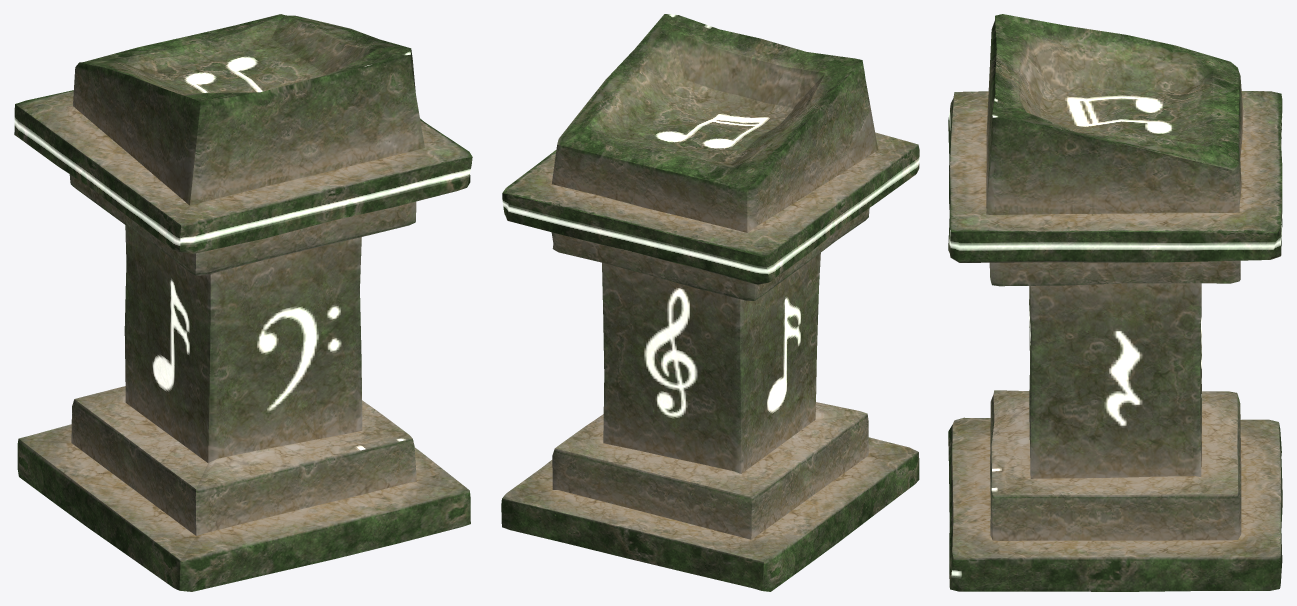
The model's file is pedestal.glb.
3 views of the same model, side by side, from view 1: azimuth 30°, elevation 25°; view 2: azimuth 150°, elevation 25°; view 3: azimuth 270°, elevation 25° (orthographic). The views are drawn at different scales.
Visible parts, largest first — view 1: Pedestal_low; view 2: Pedestal_low; view 3: Pedestal_low.
Boxes of the visible parts, x1,y1,x2,y2 form: Pedestal_low: (14,14,472,591); Pedestal_low: (501,14,919,591); Pedestal_low: (948,14,1282,591).
Size of the model in its own units: 1.47 by 2.23 by 1.47.
1 material, 1 textured.
